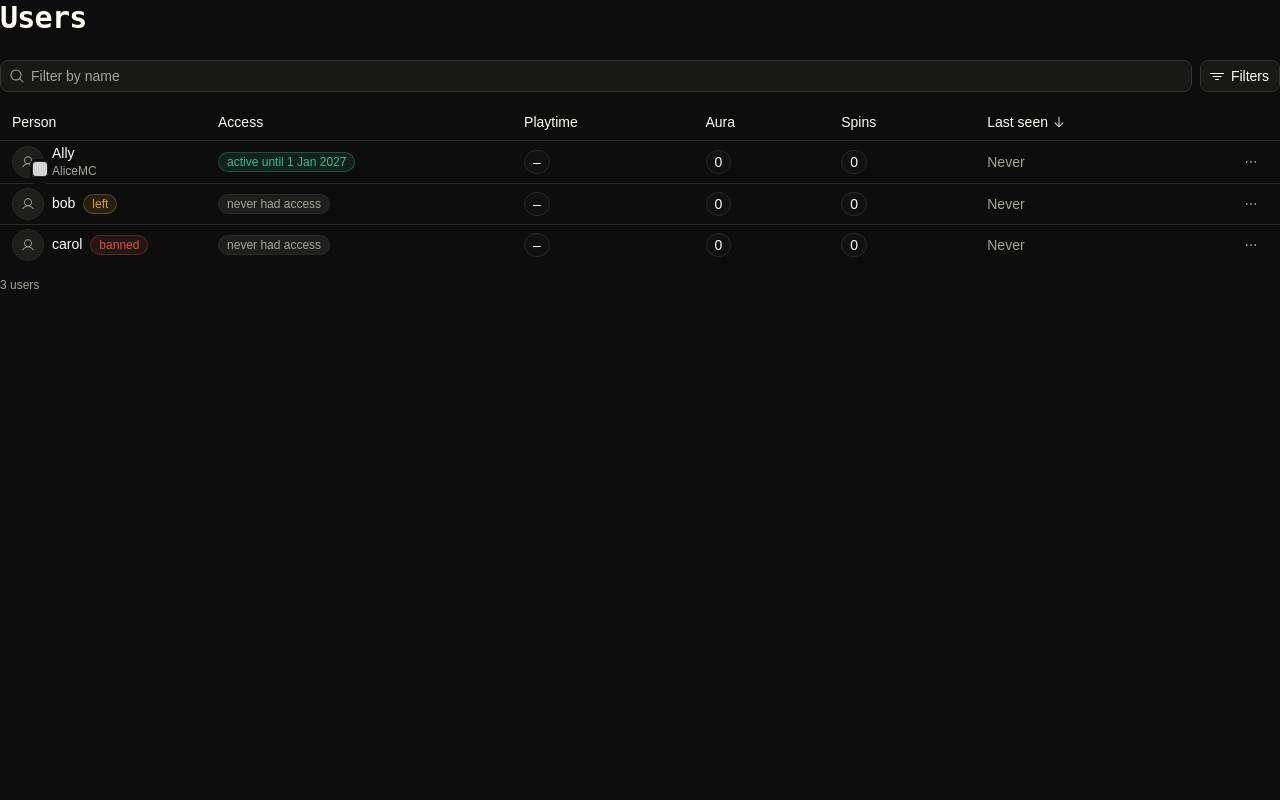
Test: AccessPage - access changes are asked of the bot › keeps the dialog open and says in it that the bot failed
Click the button named "Actions for". click: [1251, 162]
box: x1=1234 y1=145 x2=1268 y2=179
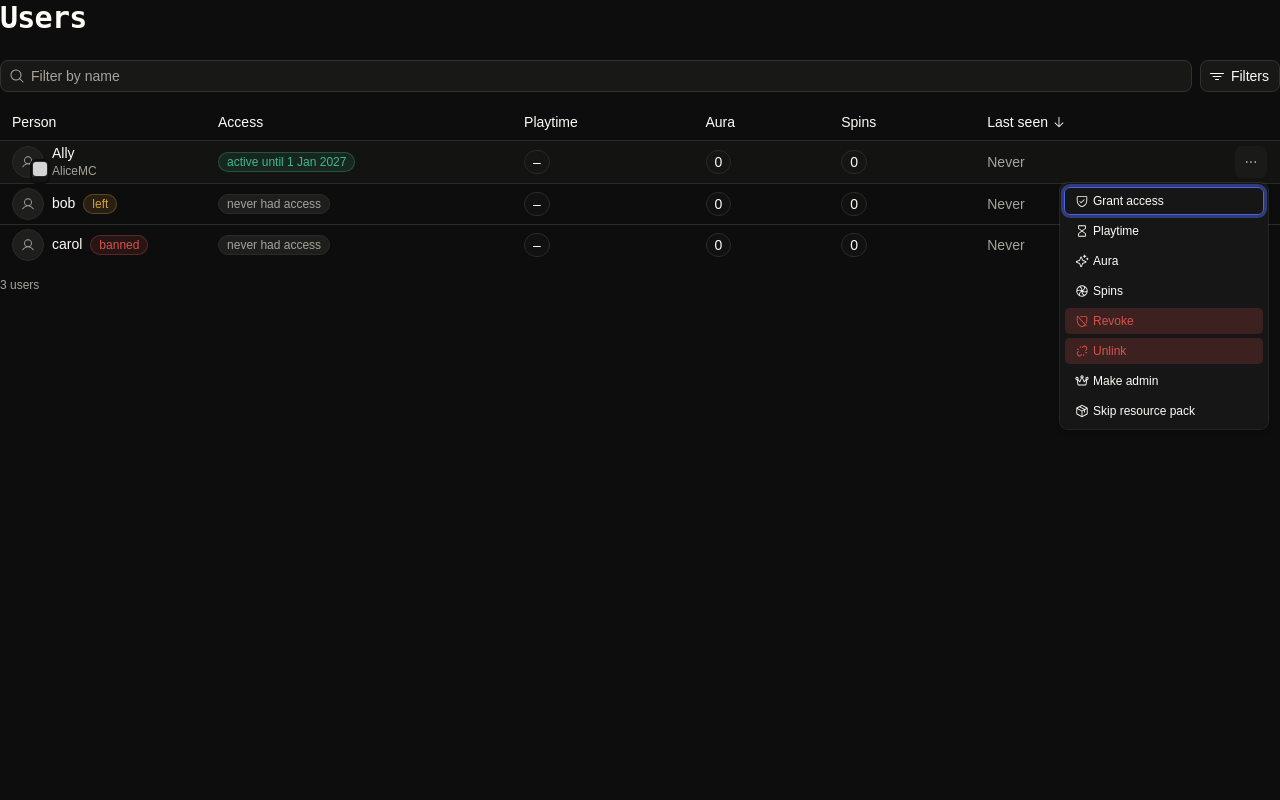
Click the button "Grant access". click: [1164, 201]
box: x1=1064 y1=187 x2=1264 y2=215
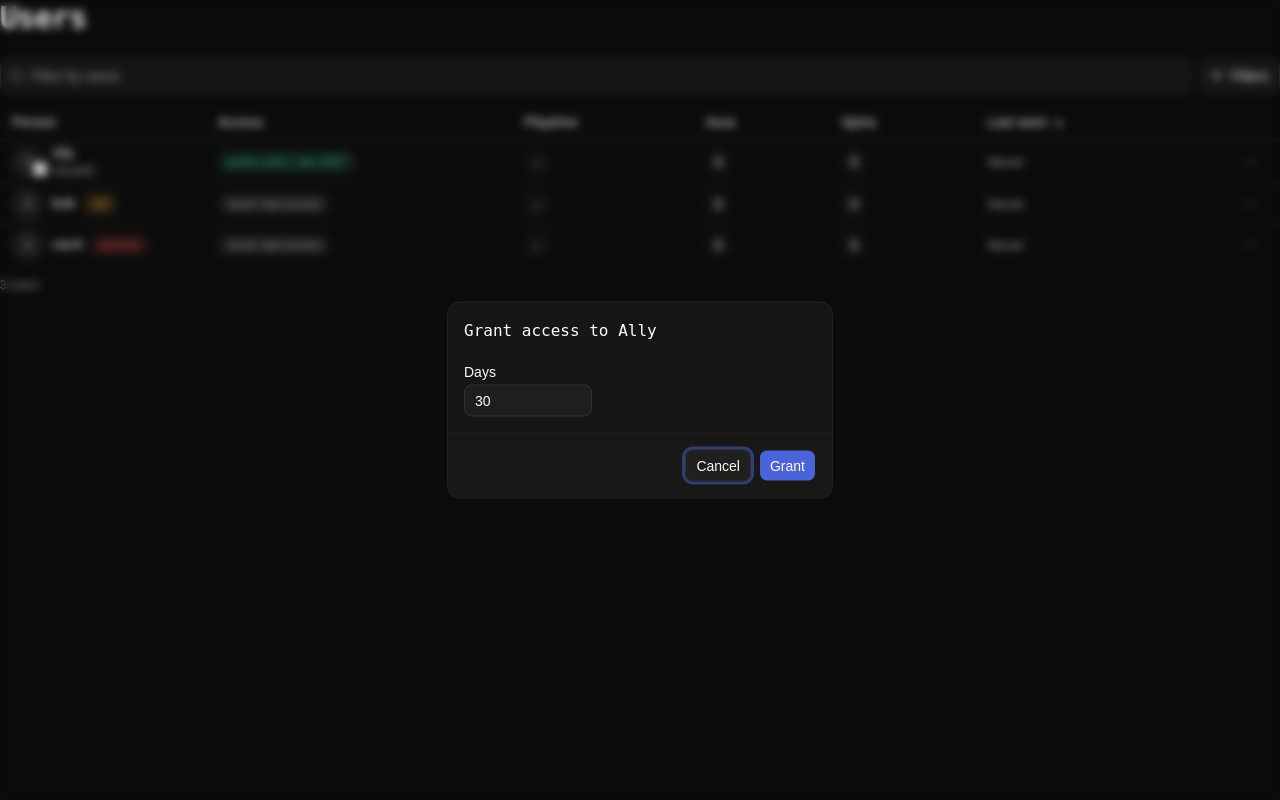
Click the button "Grant". click: [788, 466]
box: x1=759 y1=450 x2=816 y2=482
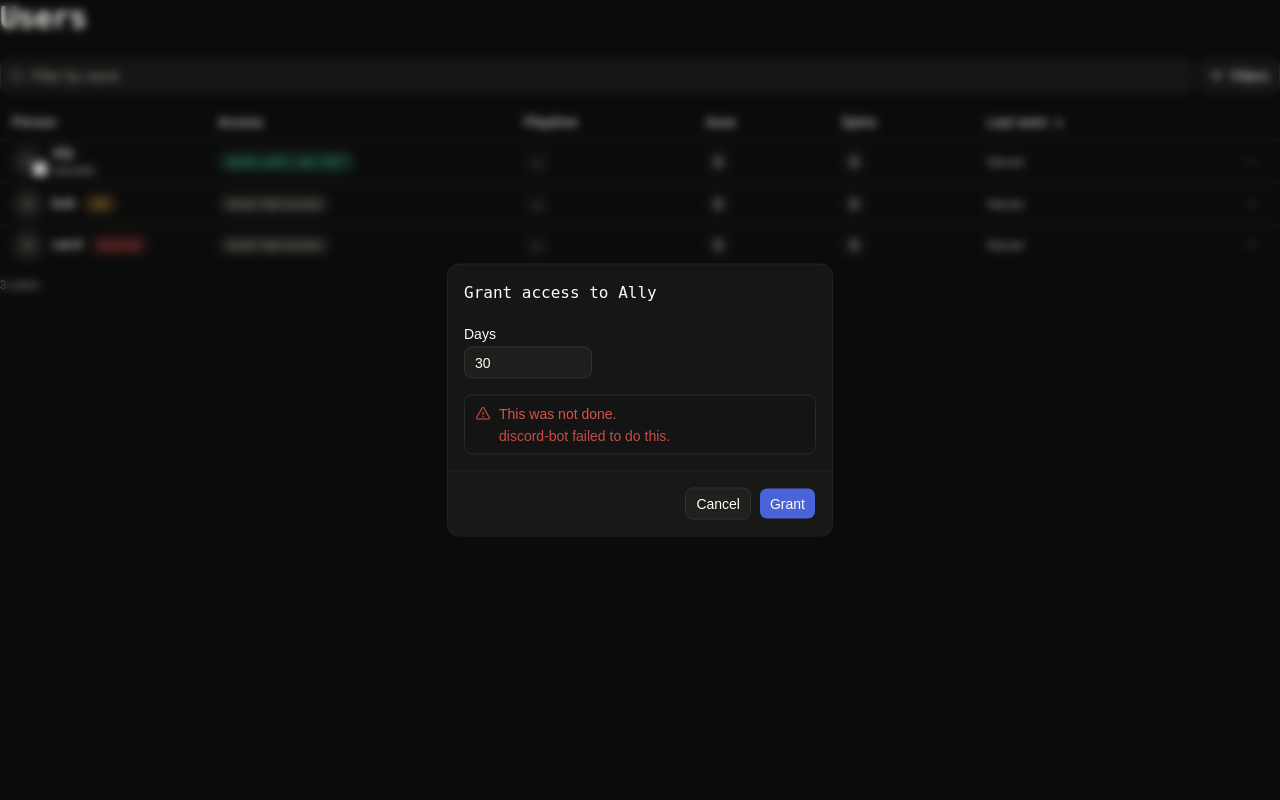
Expected: the message shows "discord-bot failed to do this.", x1=499 y1=428 x2=670 y2=444
